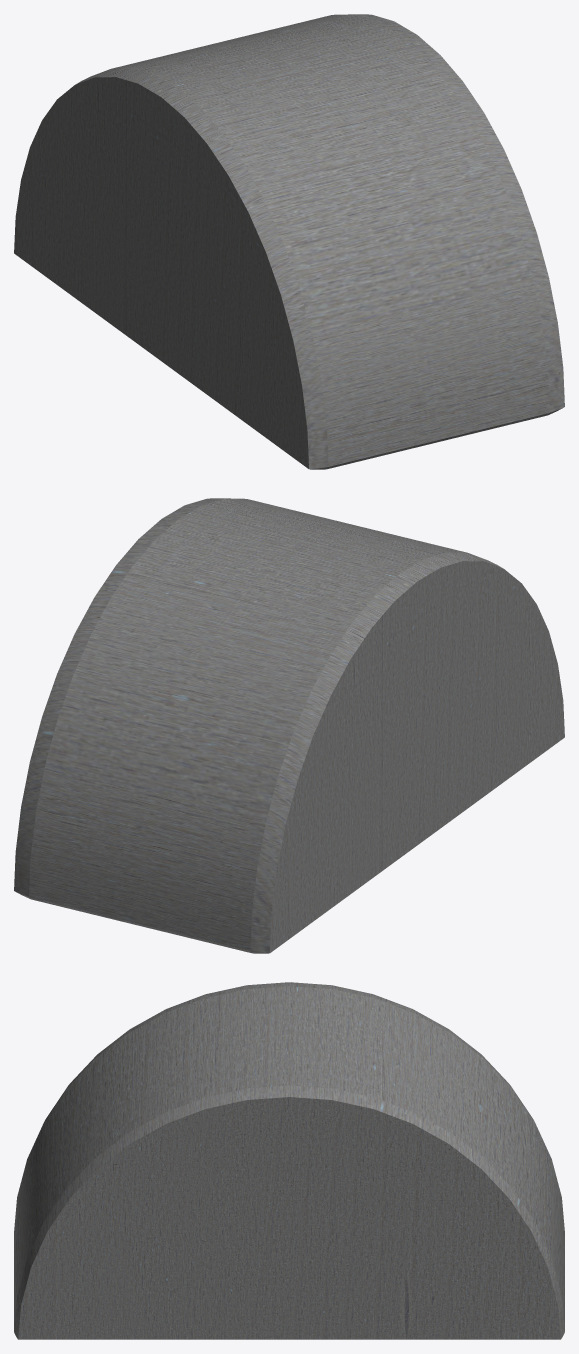
File: Half Cylinder UVed OBJ.obj
The picture shows the model from 3 angles, top to bottom: view 1: azimuth 30°, elevation 25°; view 2: azimuth 150°, elevation 25°; view 3: azimuth 270°, elevation 25°; orthographic projection. The views are drawn at different scales.
Parts seen in each view (by area): view 1: pCylinder1; view 2: pCylinder1; view 3: pCylinder1.
Part boxes in pixels (<box>): pCylinder1: <box>14,14,564,469</box>; pCylinder1: <box>14,498,564,953</box>; pCylinder1: <box>14,982,564,1339</box>.
Size of the model in its own units: 94.17 by 95.74 by 191.
1 material, 1 textured.
